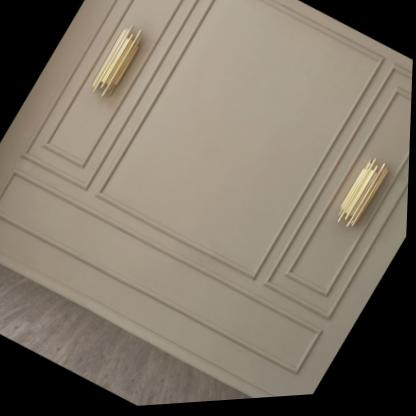Futec frame: (5, 0, 416, 350), (257, 62, 414, 334), (14, 0, 217, 205)
